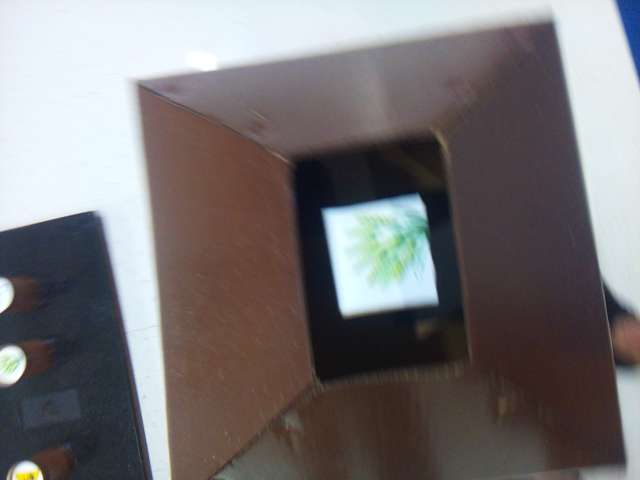wheat_barn: (322, 194, 437, 315)
